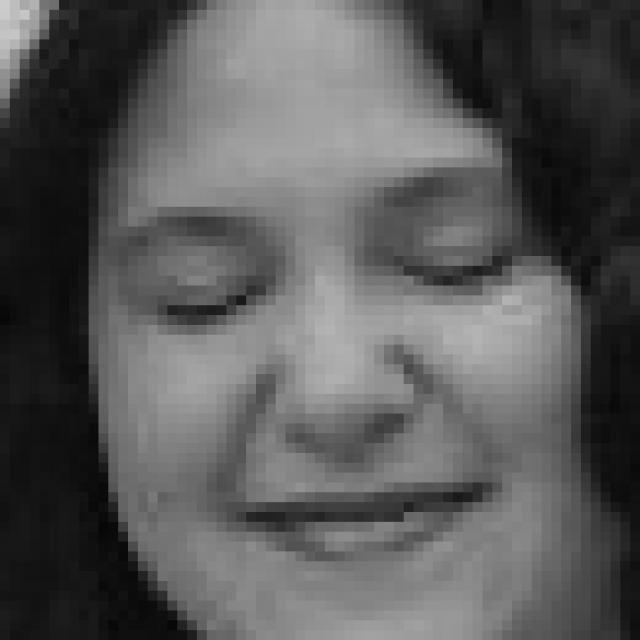real: (76, 42, 595, 634), (140, 202, 523, 346)
